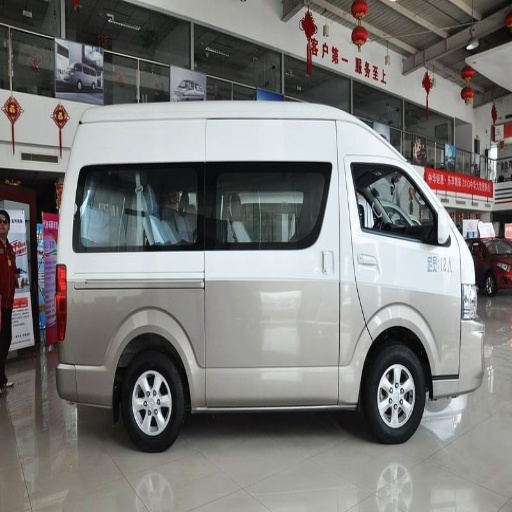back_right_door: (362, 166, 422, 235), (276, 160, 321, 215)
trunk: (59, 249, 469, 404)
